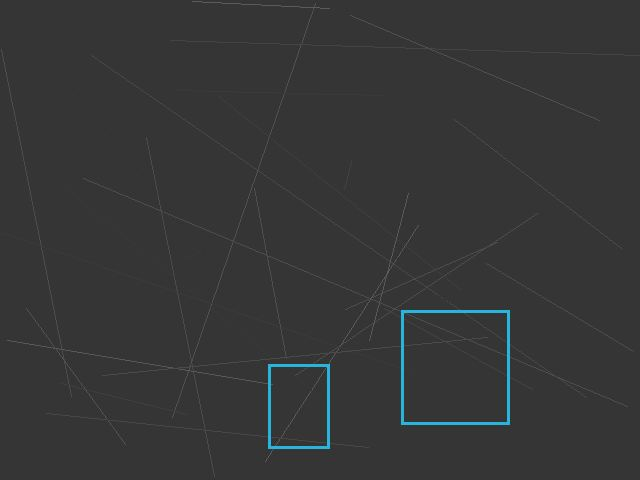D10: (401, 310, 509, 424), (268, 364, 329, 448)
